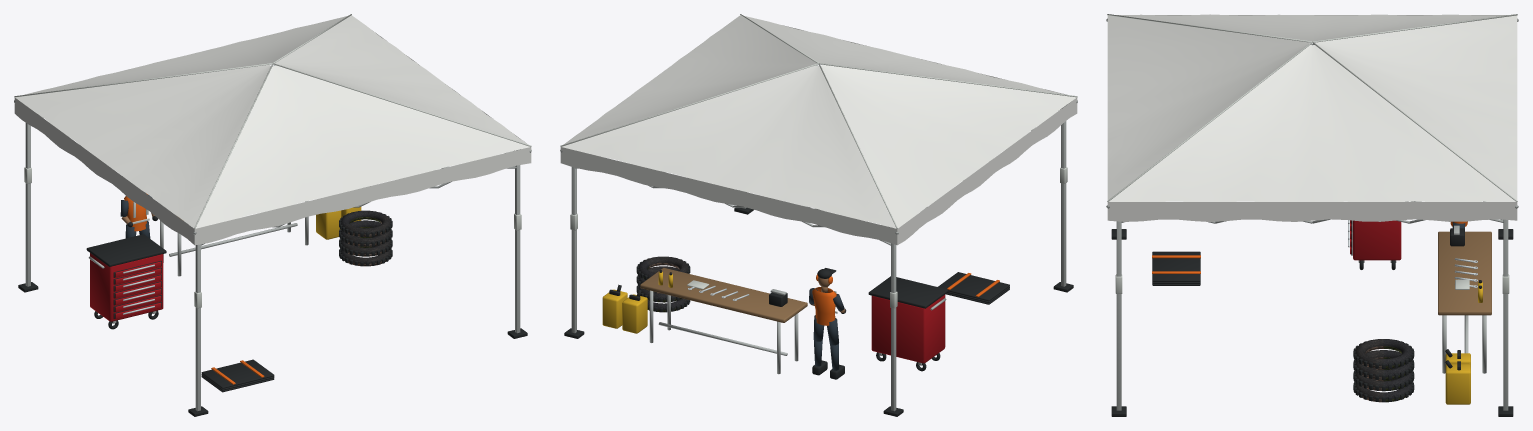
File: pit-station-v1.glb
3 views of the same model, side by side, from view 1: azimuth 30°, elevation 25°; view 2: azimuth 150°, elevation 25°; view 3: azimuth 270°, elevation 25° (orthographic). The views are drawn at different scales.
Visible parts, largest first — view 1: TeamCanopy, Pit station structure and equipment; view 2: TeamCanopy, Pit station structure and equipment; view 3: TeamCanopy, Pit station structure and equipment.
Part boxes in pixels (x1,y1,x2,y2): TeamCanopy: [14, 15, 531, 245]; Pit station structure and equipment: [14, 14, 531, 416]; TeamCanopy: [560, 15, 1077, 245]; Pit station structure and equipment: [560, 14, 1077, 416]; TeamCanopy: [1107, 14, 1517, 221]; Pit station structure and equipment: [1106, 14, 1518, 416].
Size of the model in its own units: 5.43 by 3.81 by 5.03.
12 materials, 1 textured.
